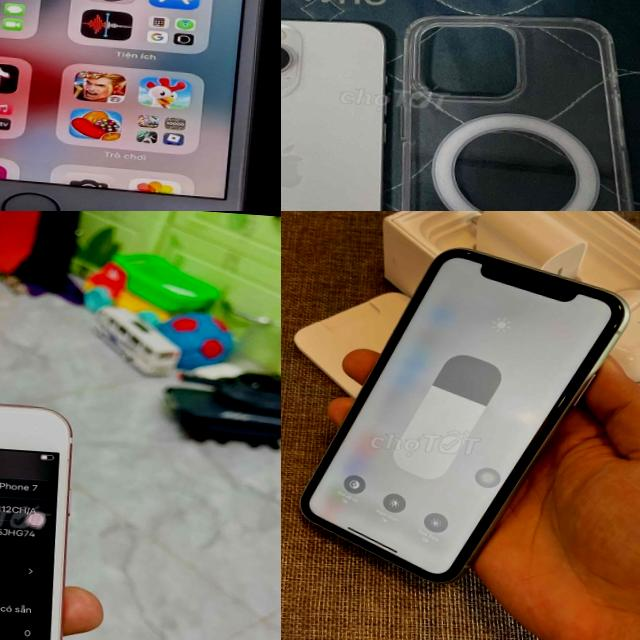gen_11: (301, 248, 629, 582)
gen_15: (281, 10, 409, 211)
gen_7_8: (0, 0, 281, 211)
